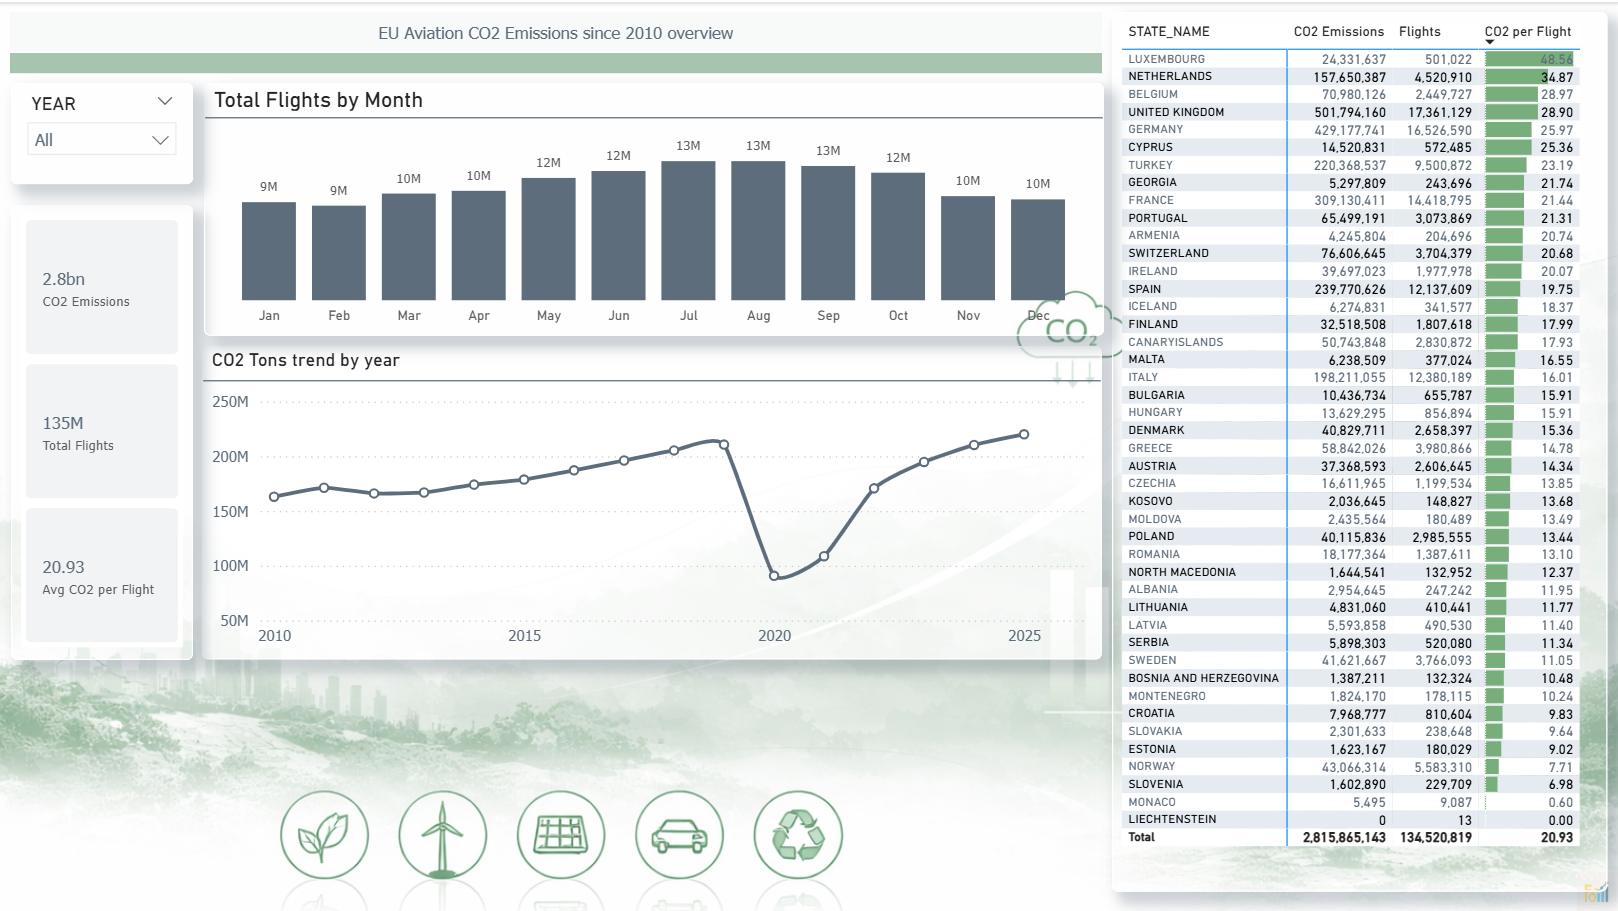

The dashboard page shown, as its layout file describes it:
{"tool":"powerbi","page":{"name":"Overview","canvas":[1280,720],"ordinal":0},"visuals":[{"type":"image","box":[1248,688,32,32],"z":0},{"type":"lineChart","title":"CO2 Tons trend by year","fields":{"Category":["dim_date.year"],"Y":["DAX.Total co2"]},"box":[160,272,712,248],"z":1000},{"type":"pivotTable","fields":{"Rows":["eu_co2_emissions.STATE_NAME"],"Values":["DAX.Total co2","DAX.Total Flights","DAX.CO2 per Flight"]},"box":[880,8,392,696],"z":2000},{"type":"cardVisual","fields":{"Data":["DAX.Total co2","DAX.Total Flights","DAX.CO2 per Flight"]},"box":[9,160.4,144,360],"z":3000},{"type":"clusteredColumnChart","title":"Total Flights by Month","fields":{"Category":["dim_date.month_short"],"Y":["DAX.Total Flights"]},"box":[161,64.4,712,200],"z":4000},{"type":"slicer","fields":{"Values":["dim_date.year"]},"box":[9,64.4,144,80],"z":5000},{"type":"shape","box":[8,8,864,32],"z":6000},{"type":"shape","box":[8,40,864,16],"z":7000}]}

Visuals, with their boxes in screenshot pixels (x1, y1, x2, y2), scaled from the page's 1280x720 canvas onto the 1618x911 screenshot:
image: box=[1578, 871, 1617, 910]
"CO2 Tons trend by year" lineChart: box=[202, 344, 1102, 658]
pivotTable - eu_co2_emissions.STATE_NAME x DAX.Total co2: box=[1112, 10, 1608, 891]
cardVisual - DAX.Total co2 x DAX.Total Flights: box=[11, 203, 193, 658]
"Total Flights by Month" clusteredColumnChart: box=[204, 81, 1104, 335]
slicer - dim_date.year: box=[11, 81, 193, 183]
shape: box=[10, 10, 1102, 51]
shape: box=[10, 51, 1102, 71]
